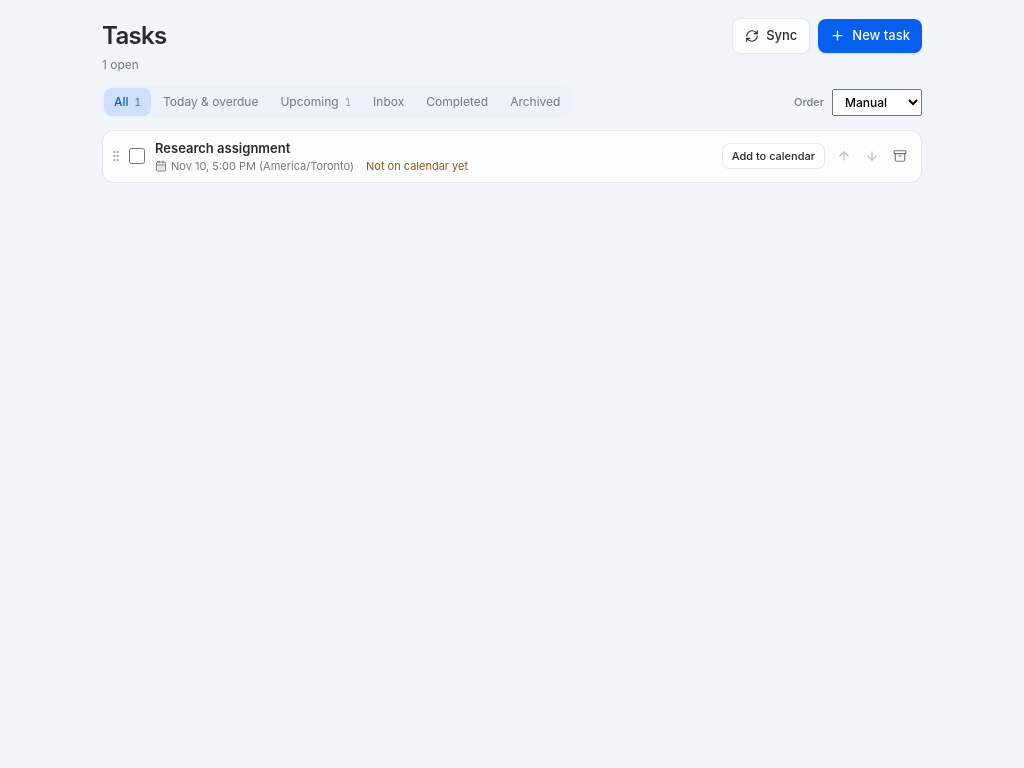
Scenario: keeps a delete failure in its dialog
The image size is (1024, 768).
What coordinates should you click on to do the following:
click the button "Research assignment"
I would click on:
 (223, 148)
Its box is [155, 138, 290, 158].
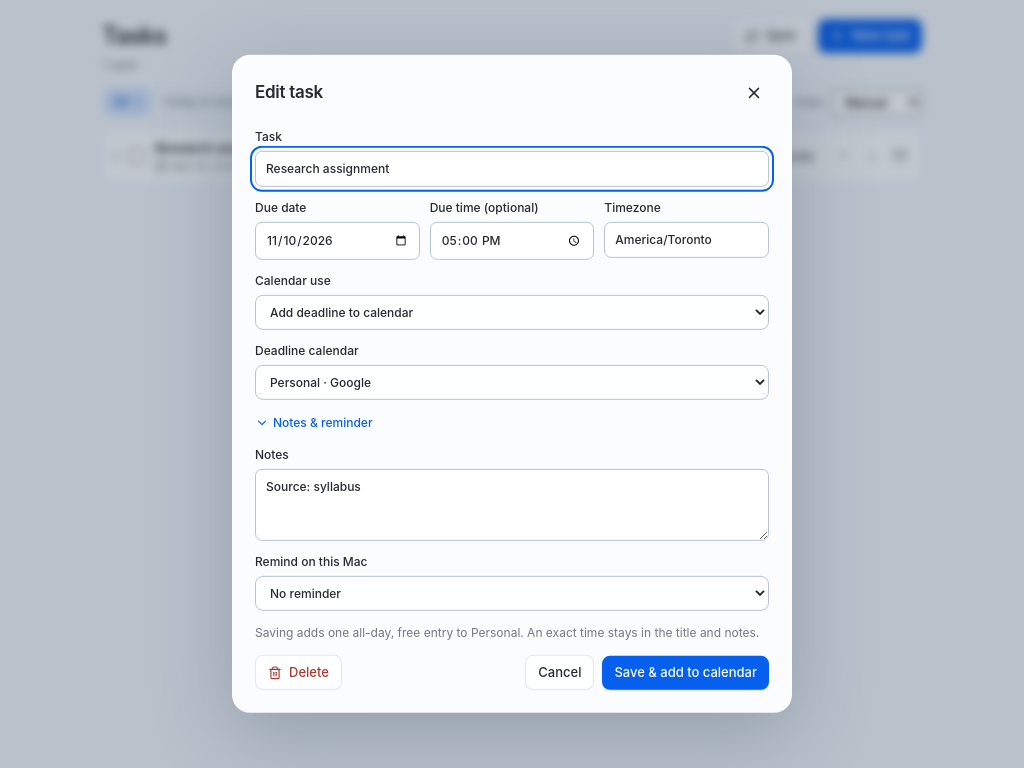
What coordinates should you click on to do the following:
click the button "Delete"
I would click on:
 (298, 672)
Its box is [255, 655, 342, 690].
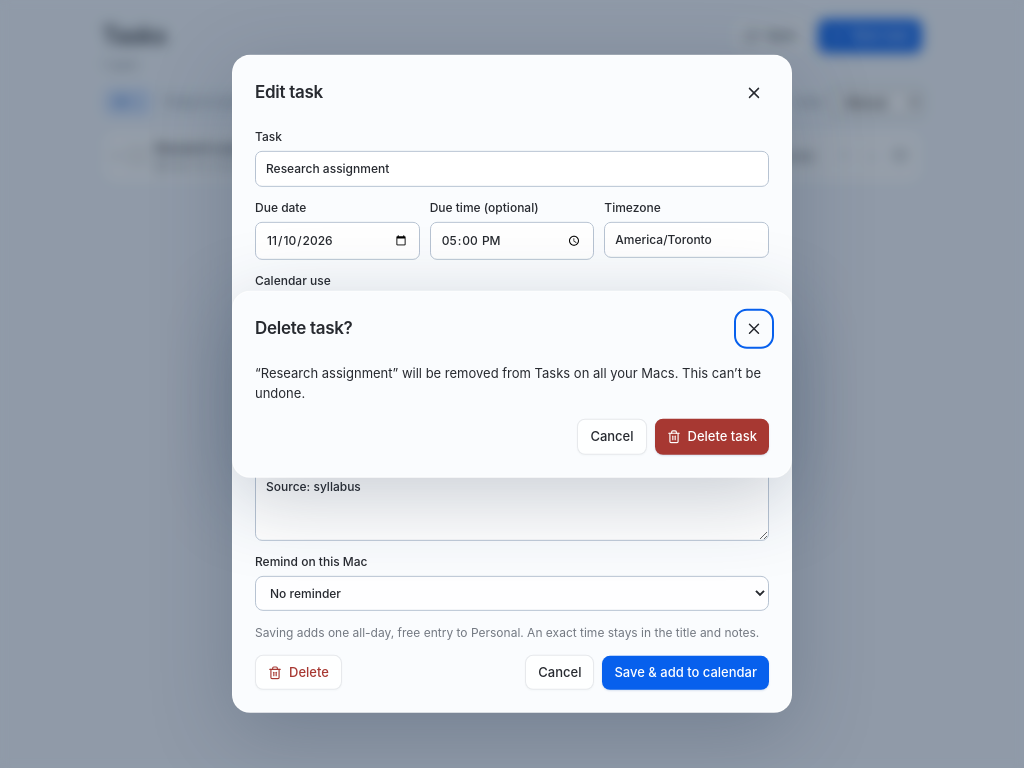
What coordinates should you click on to do the following:
click the button "Delete task"
I would click on:
 (712, 437)
Its box is [654, 419, 769, 454].
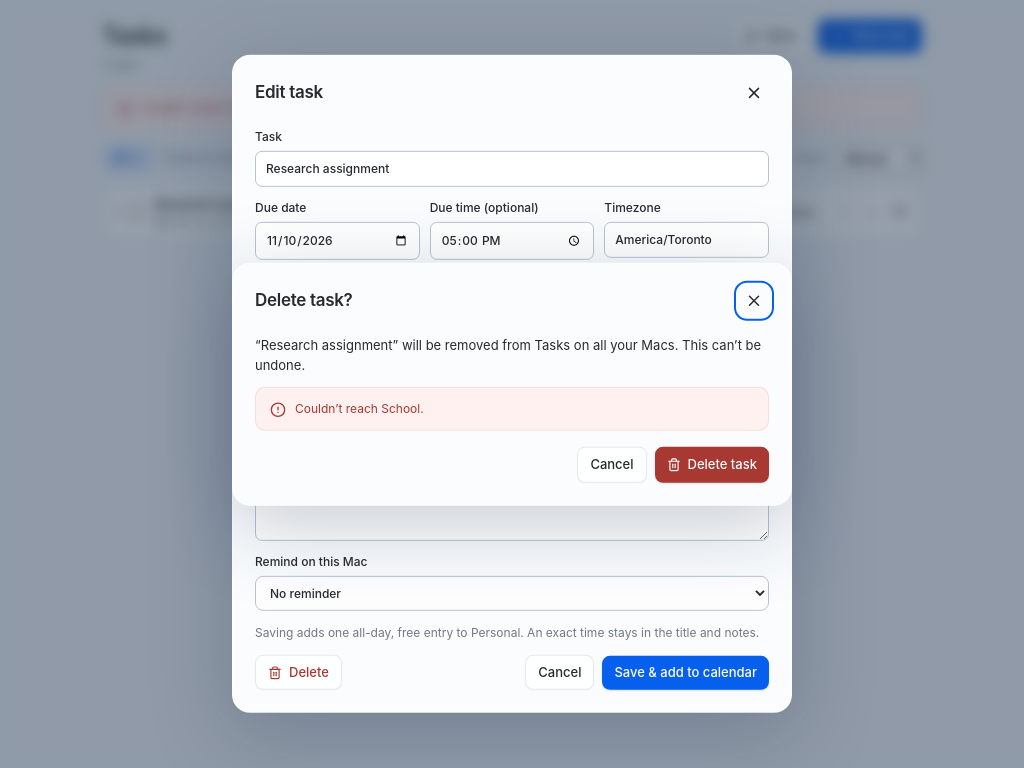
Now the dialog "Delete task?" shows "Couldn’t reach School.", box [295, 401, 424, 416]
